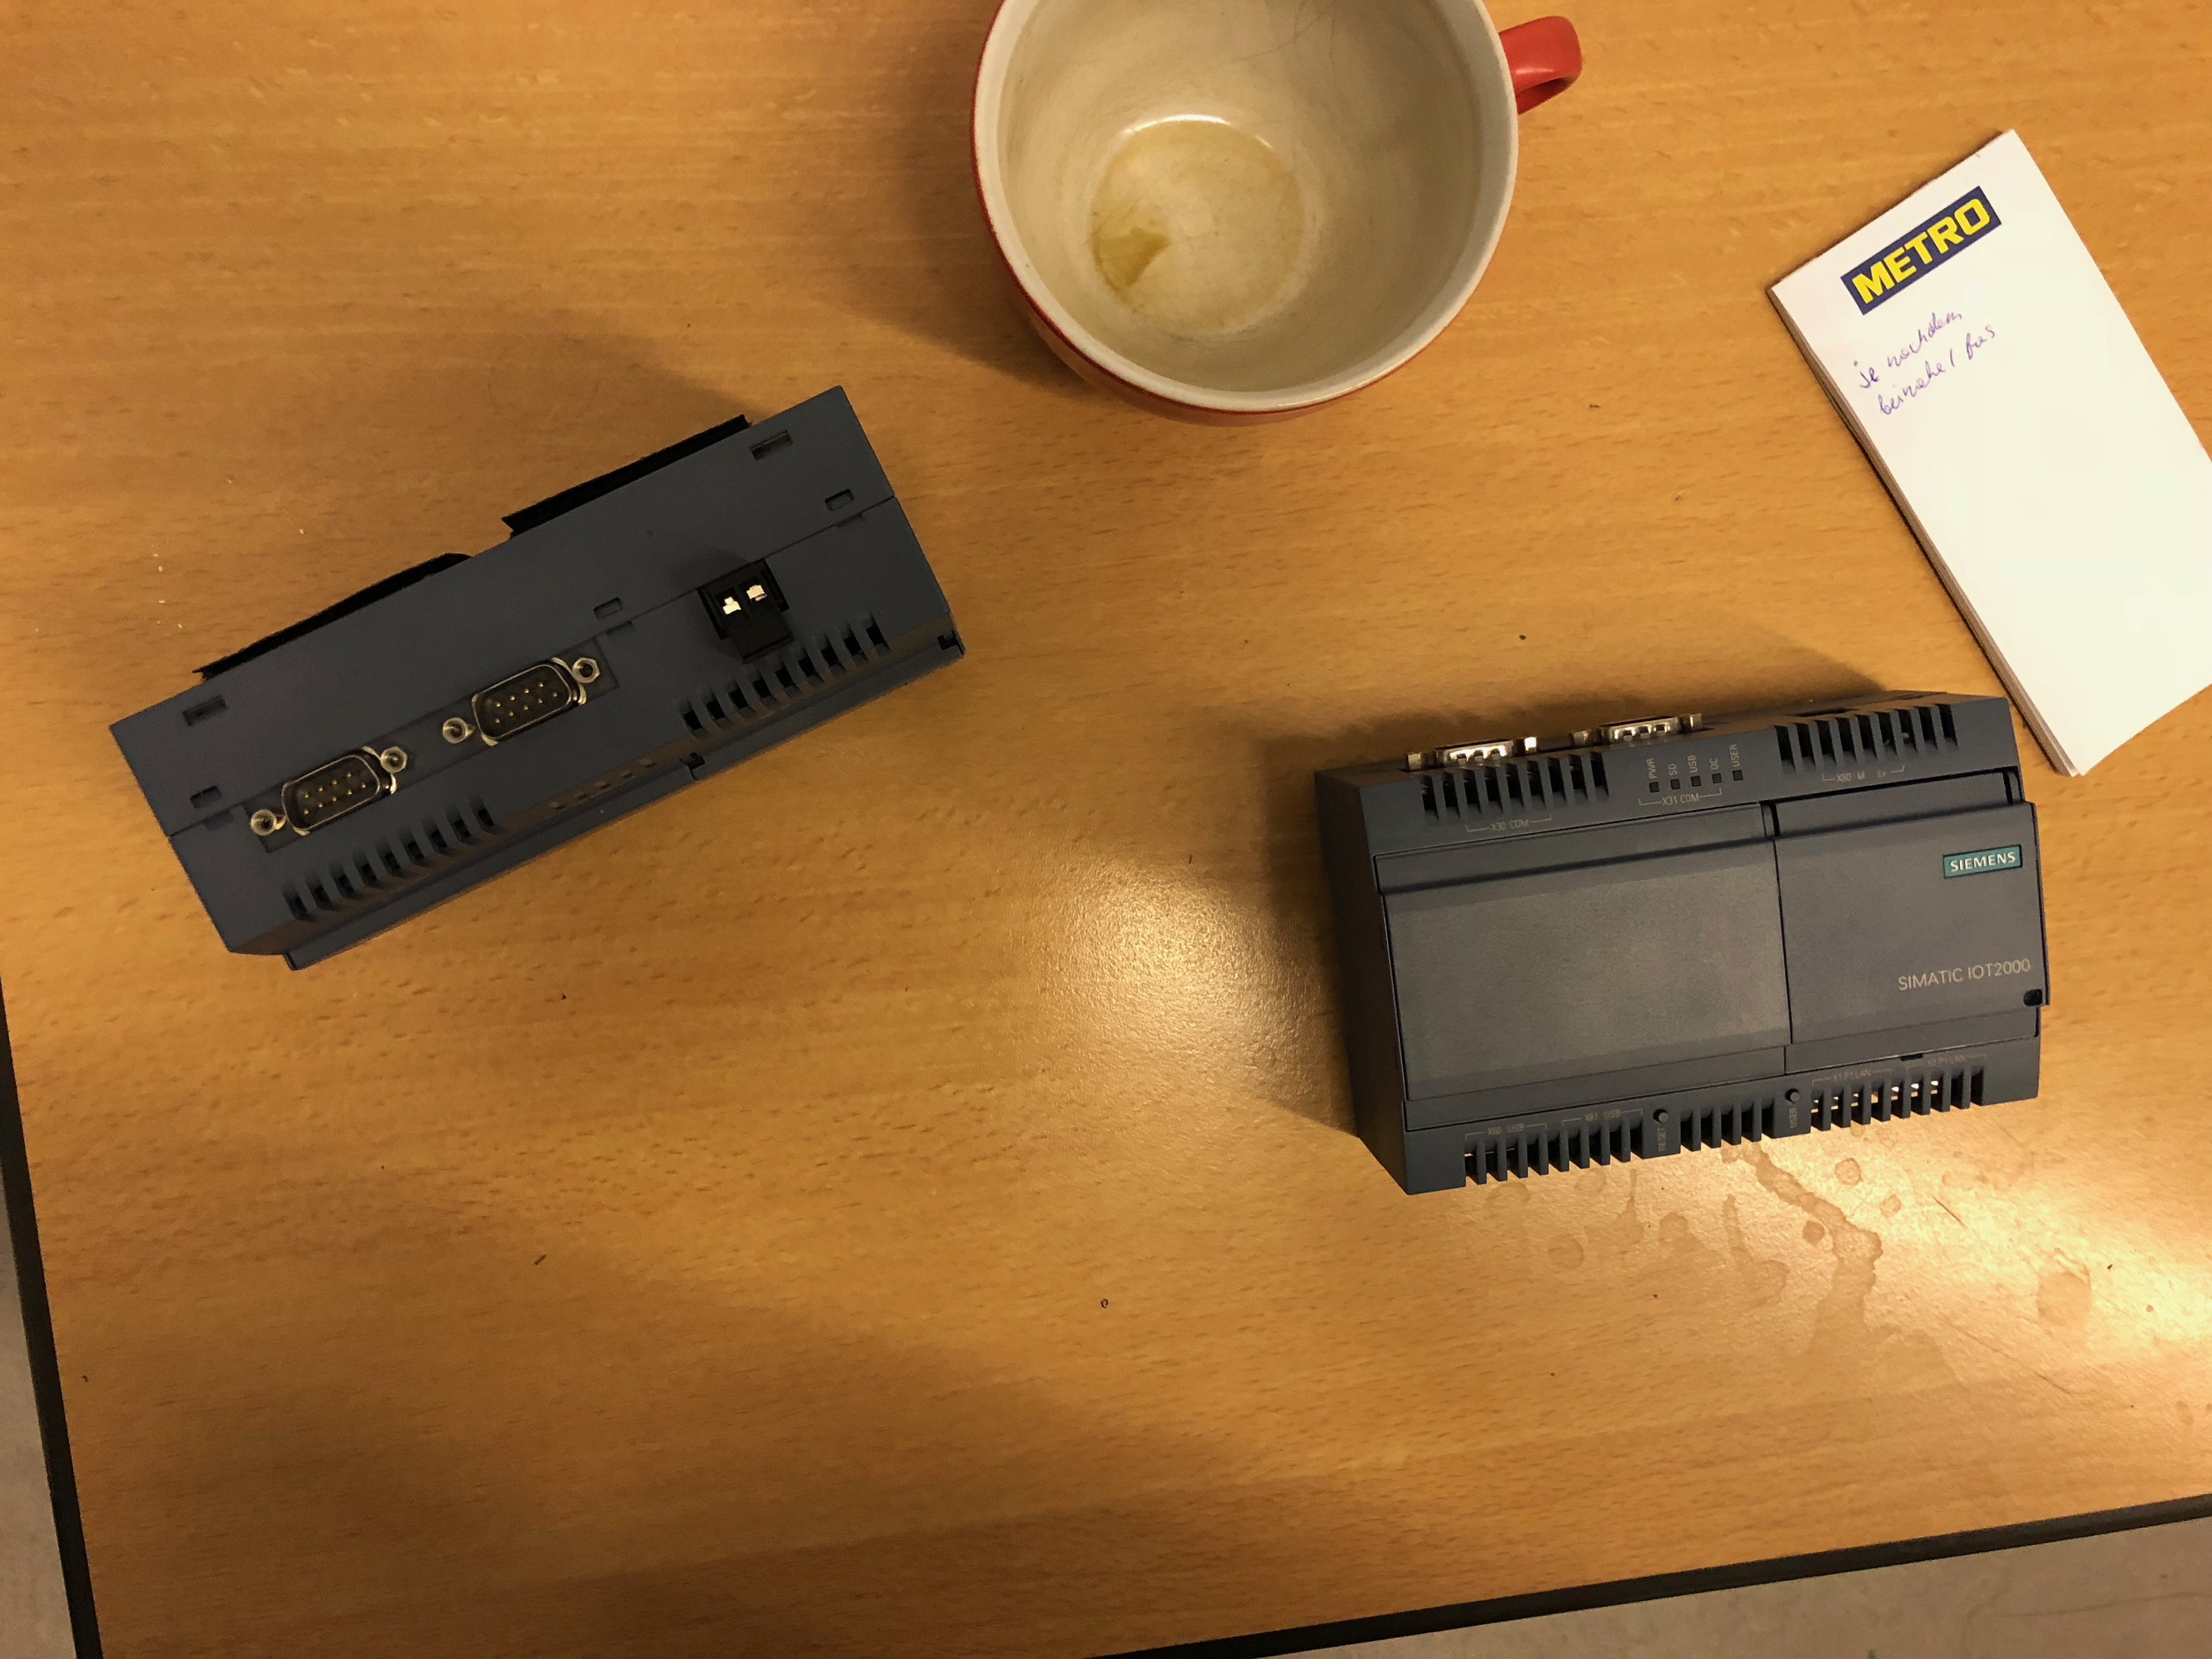device: (106, 383, 968, 972), (1312, 687, 2054, 1197)
